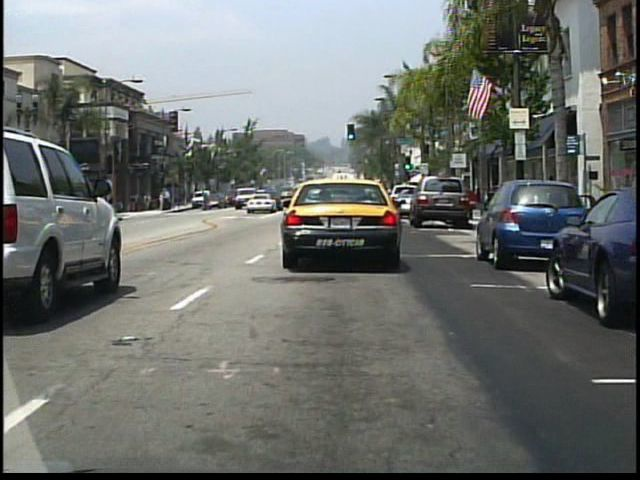person: (200, 188, 210, 213)
